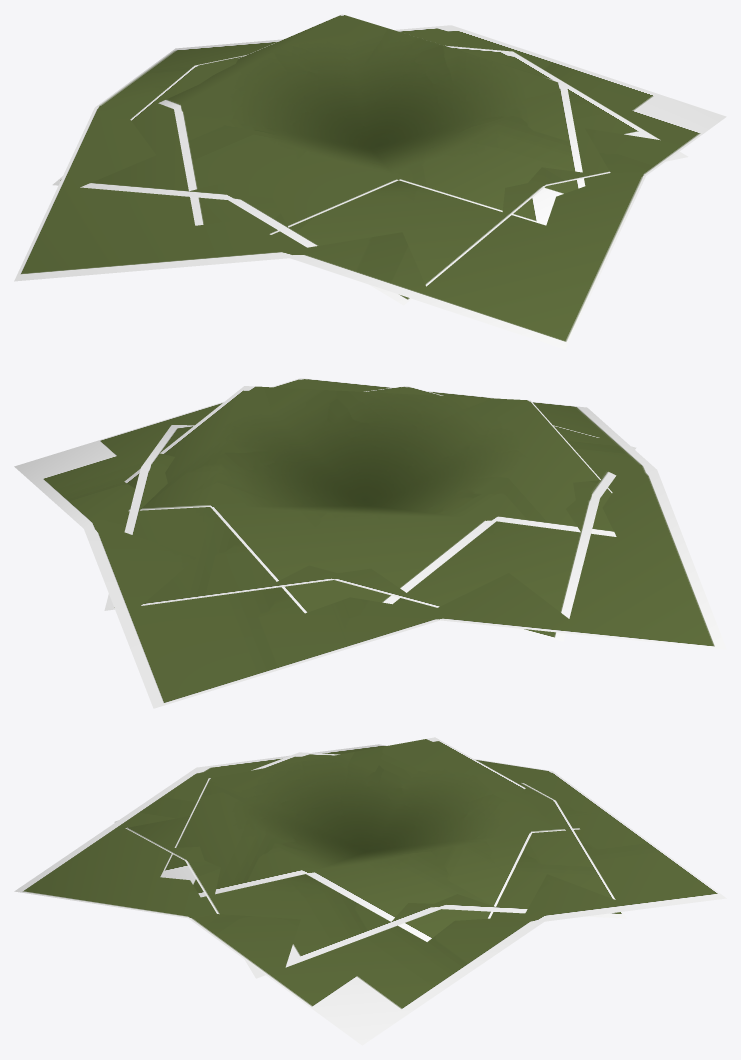
Rendered from Plante_basse.fbx.
3 views of the same model, one above another, from view 1: azimuth 30°, elevation 25°; view 2: azimuth 150°, elevation 25°; view 3: azimuth 270°, elevation 25° (orthographic). The views are drawn at different scales.
Visible parts, largest first — view 1: polySurface35; view 2: polySurface35; view 3: polySurface35.
Part boxes in pixels (bbox=[...]): polySurface35: bbox=[14, 14, 726, 349]; polySurface35: bbox=[14, 378, 726, 708]; polySurface35: bbox=[14, 737, 726, 1045].
Bounding box in the file's own units: 1.04 × 0.1439 × 1.04.
